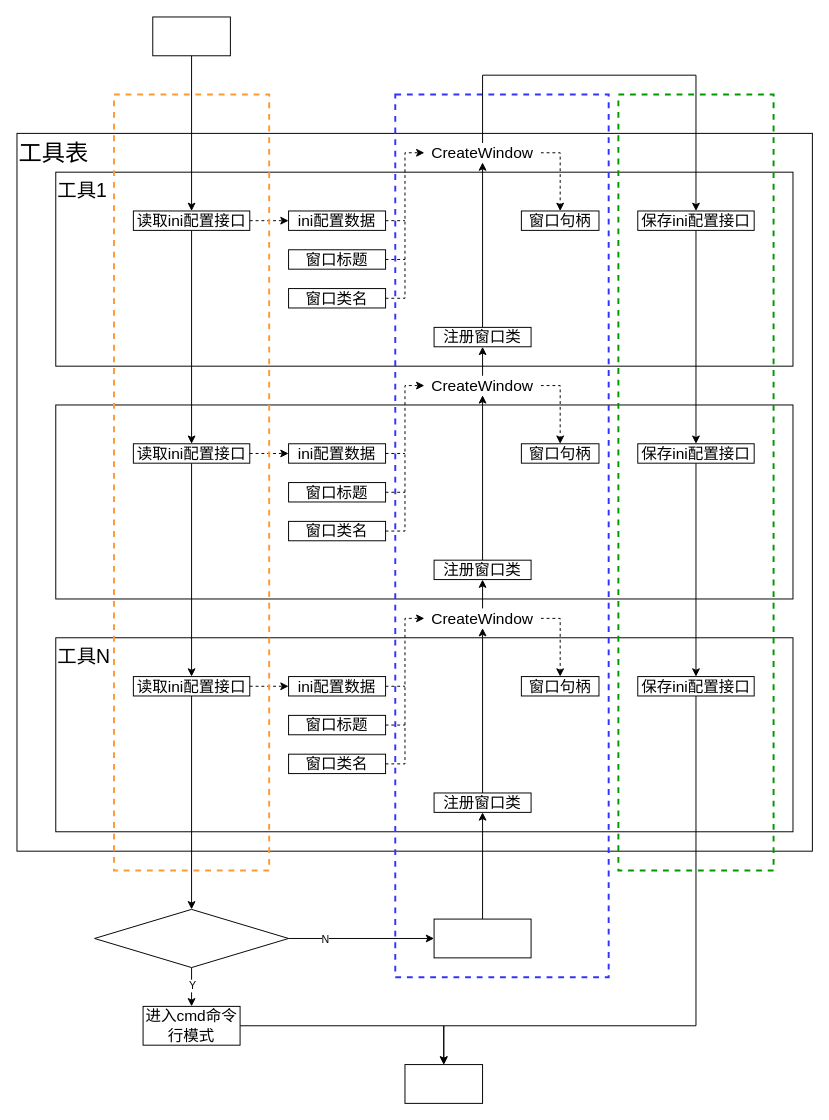
Some shapes in this 829 by 1120 pixel diagram are drawn without their labels. Each missing label, with the box of its shape:
WinMain: (152, 16, 230, 56)
保存ini配置文件: (617, 93, 774, 871)
创建主窗口: (433, 918, 531, 958)
命令行参数是否有内容: (94, 908, 289, 968)
工具2: (55, 404, 793, 599)
结束: (404, 1064, 483, 1103)
读取ini配置文件: (113, 93, 270, 871)
进入图形界面模式: (394, 93, 609, 978)
